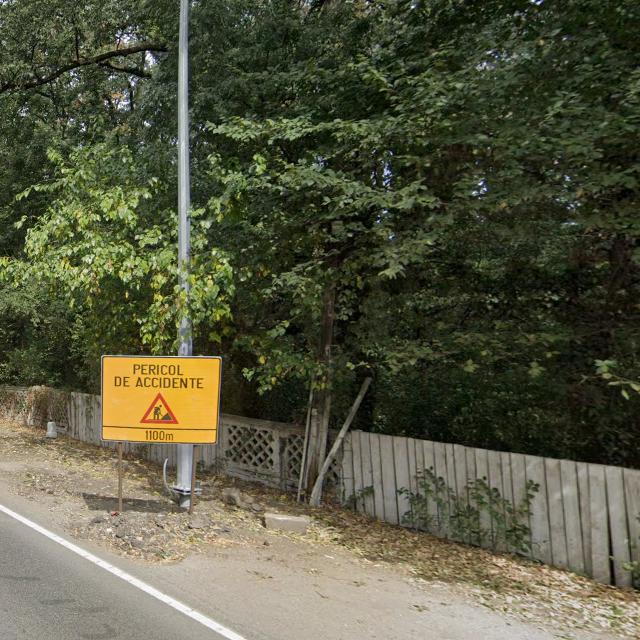warn_construction: (140, 392, 179, 425)
